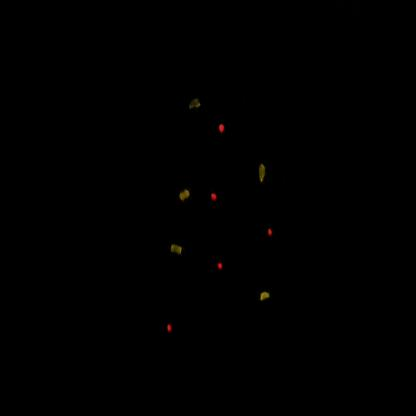PET: (211, 252, 235, 288), (213, 115, 232, 153), (263, 219, 282, 249), (207, 181, 224, 214), (164, 315, 178, 342)
PP: (245, 144, 279, 191), (248, 270, 279, 315), (166, 231, 190, 272), (181, 88, 202, 123), (174, 174, 194, 208)
